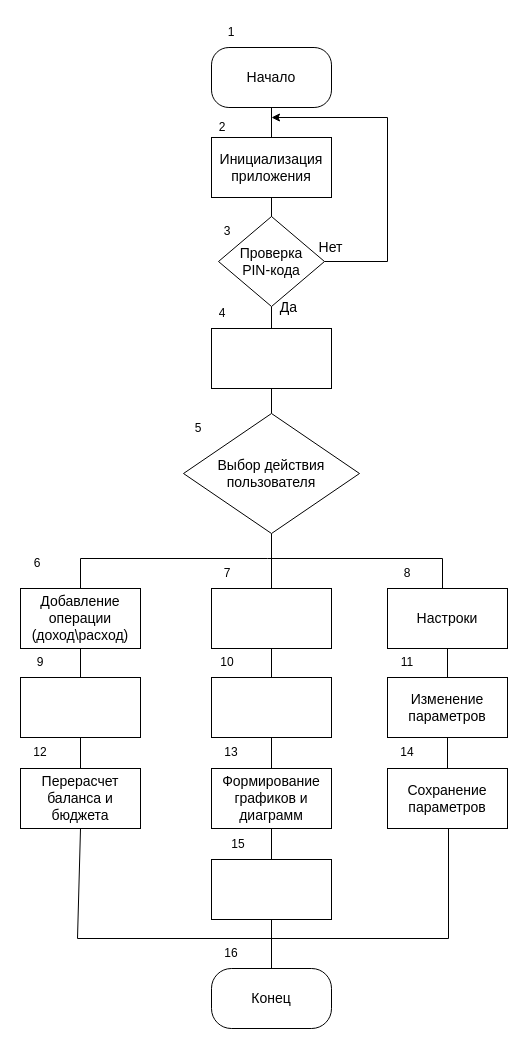
This 525x1046 diagram has some shape labels left out. Here are the shapes that lost their labels. From the top down, the centre of each, then its label:
At pixel 271 358: "Открытие главного меню".
At pixel 271 618: "Просмотр аналитики".
At pixel 80 707: "Сохранение операции в базе даннных".
At pixel 271 707: "Запрос данных".
At pixel 271 889: "Отображение аналитики".
